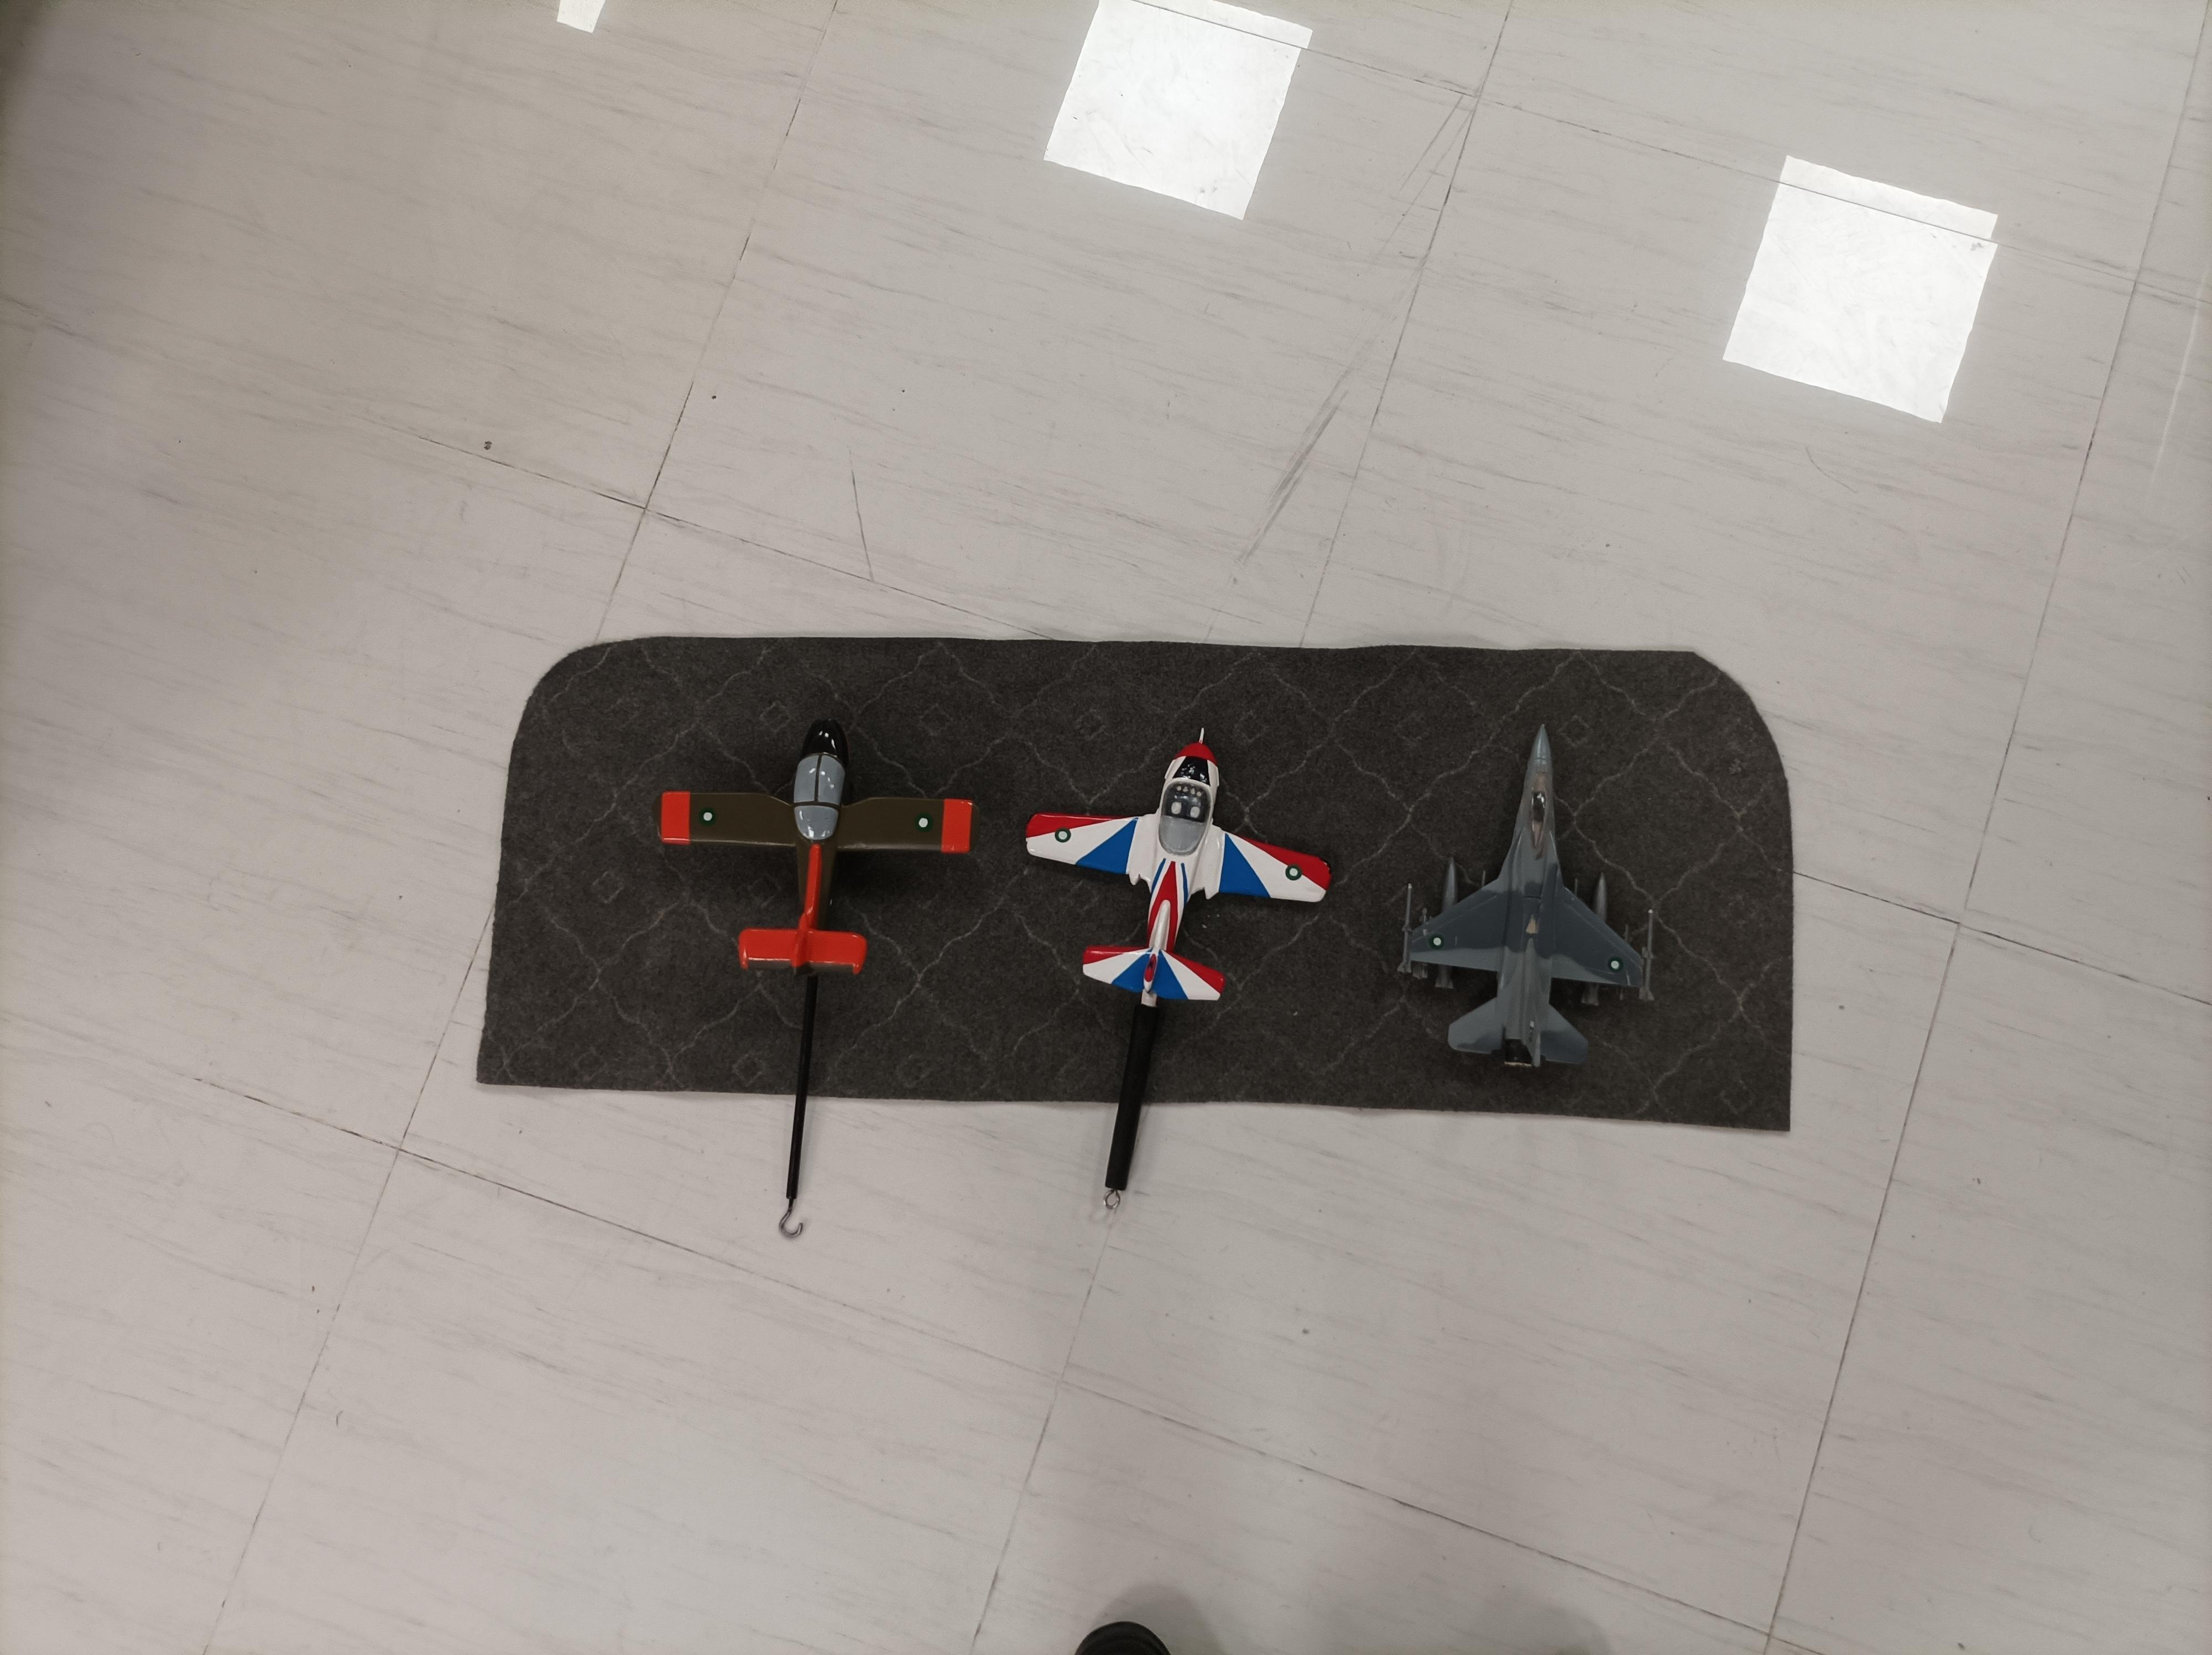Airplane: (1385, 708, 1673, 1104), (1015, 708, 1344, 1037), (633, 705, 987, 985)
